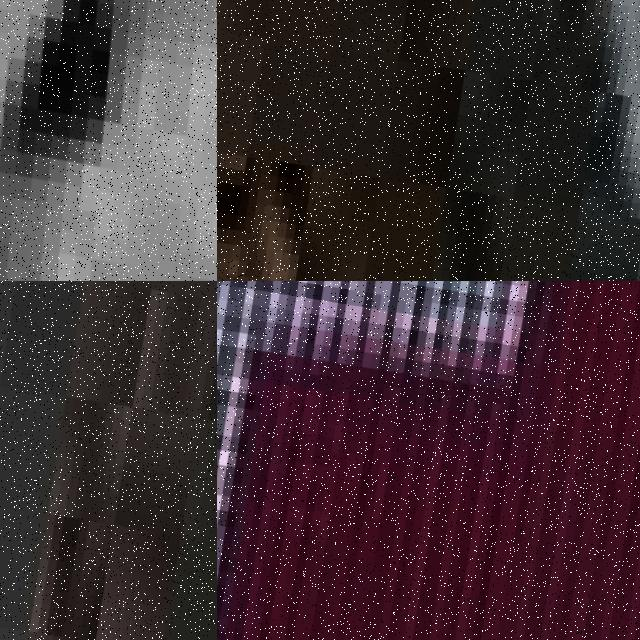drone: (0, 0, 217, 281)
